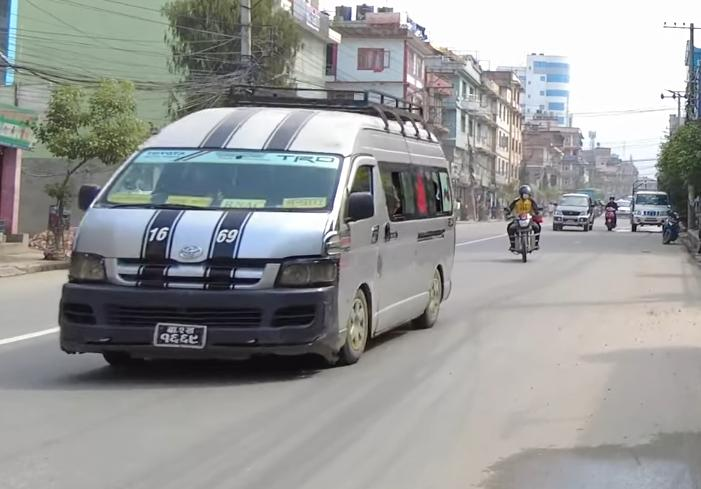SUV: (549, 191, 598, 236)
bike: (502, 206, 544, 264), (657, 210, 682, 246)
micro_bus: (44, 96, 457, 380)
scooter: (604, 205, 618, 231)
transport_vehicle: (629, 180, 673, 232)
